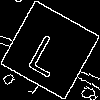L: (25, 25, 72, 79)
